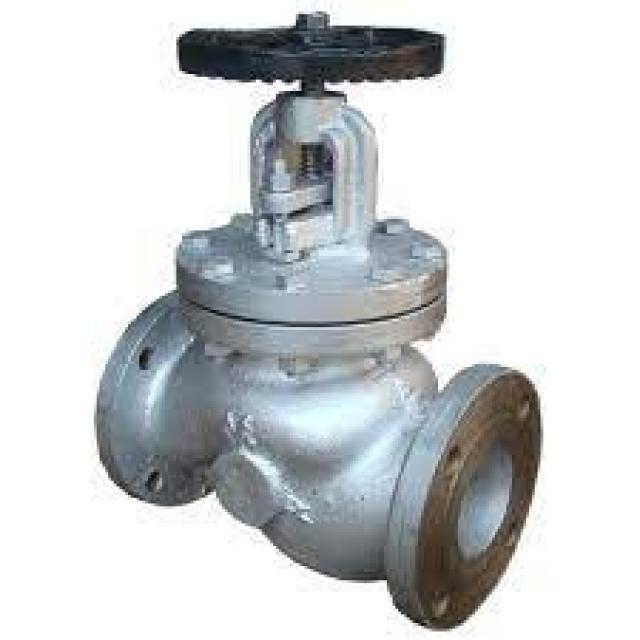Wheel Handle Valve Threaded: (164, 9, 461, 100)
